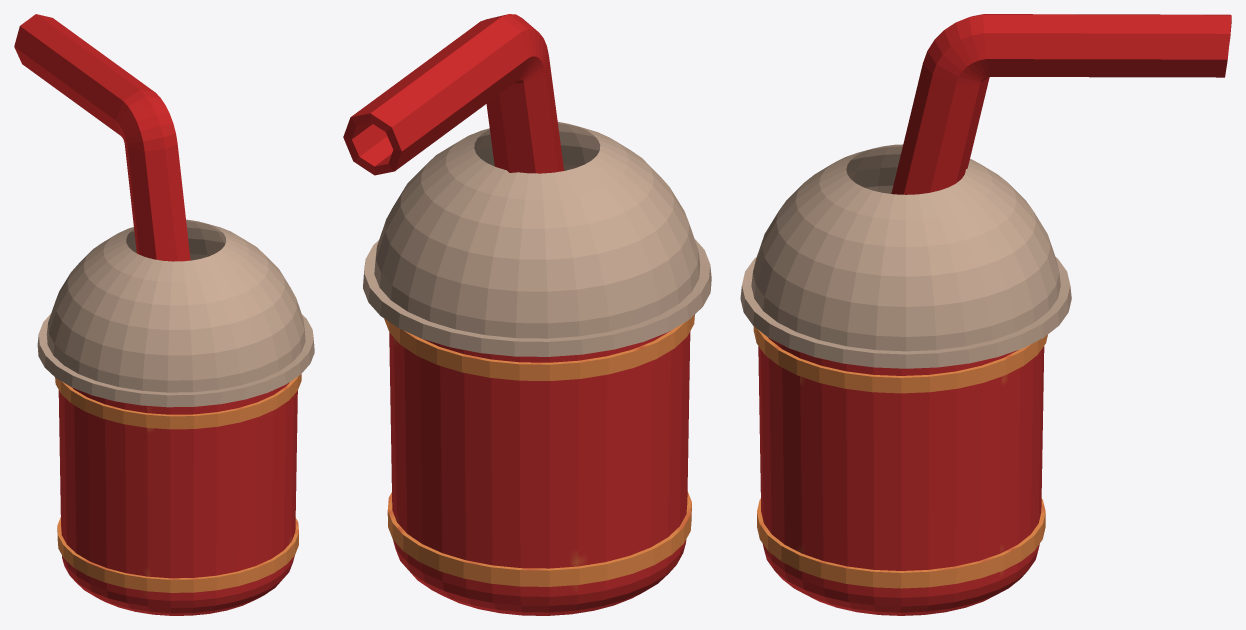
File: Normal_Shooter_turret.fbx
3 views of the same model, side by side, from view 1: azimuth 30°, elevation 25°; view 2: azimuth 150°, elevation 25°; view 3: azimuth 270°, elevation 25° (orthographic). The views are drawn at different scales.
Visible parts, largest first — view 1: Normal_Shooter_Lid.001; view 2: Normal_Shooter_Lid.001; view 3: Normal_Shooter_Lid.001.
Part boxes in pixels (x1=…): Normal_Shooter_Lid.001: x1=14, y1=14, x2=314, y2=615; Normal_Shooter_Lid.001: x1=343, y1=14, x2=711, y2=615; Normal_Shooter_Lid.001: x1=740, y1=14, x2=1231, y2=615.
Size of the model in its own units: 1849 by 3386 by 2740.
1 material, 1 textured.
